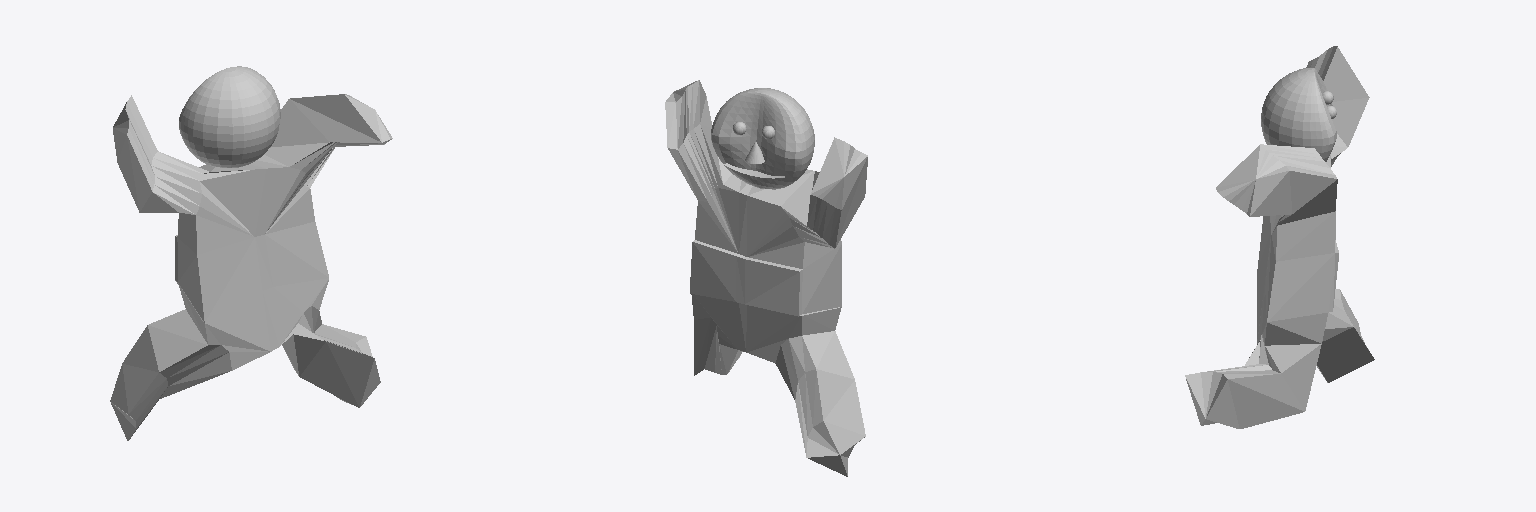
File: manjump_000024.obj
The picture shows the model from 3 angles: view 1: azimuth 30°, elevation 25°; view 2: azimuth 150°, elevation 25°; view 3: azimuth 270°, elevation 25°; orthographic projection.
Visible parts, largest first — view 1: Cube; view 2: Cube; view 3: Cube.
Boxes of the visible parts, <box> form: Cube: <box>110,66,392,440</box>; Cube: <box>665,80,867,476</box>; Cube: <box>1185,46,1374,428</box>.
Size of the model in its own units: 82.53 by 123 by 59.33.